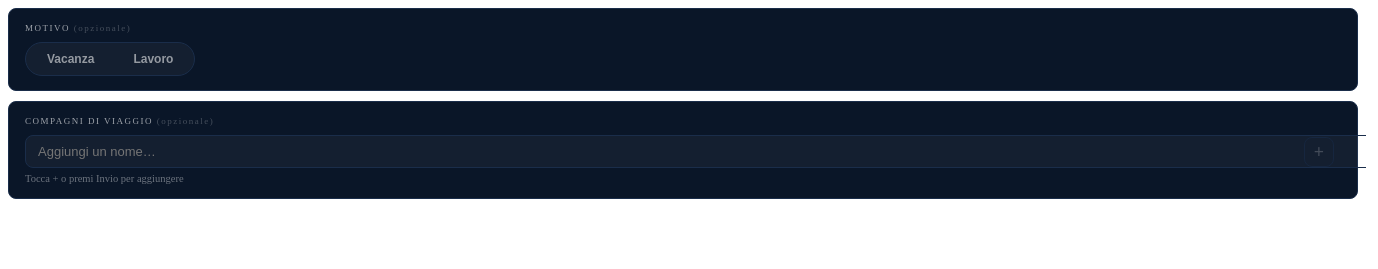
Scenario: TripPurposeCompanions — suggerimenti da tastiera › Invio senza evidenziazione aggiunge il testo digitato (comportamento storico)
Type "Marco" into the dropdown with placeholder "Aggiungi un nome…" at (696, 152), box [25,135,1366,168]
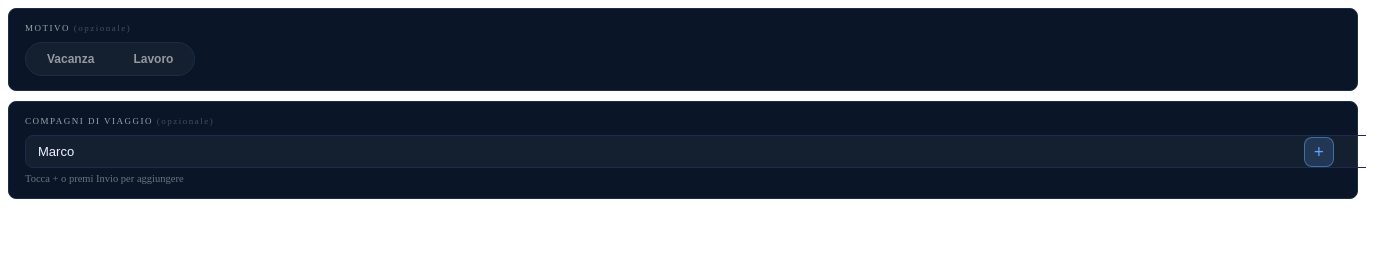
Press Enter in the dropdown with placeholder "Aggiungi un nome…", box [25,135,1366,168]
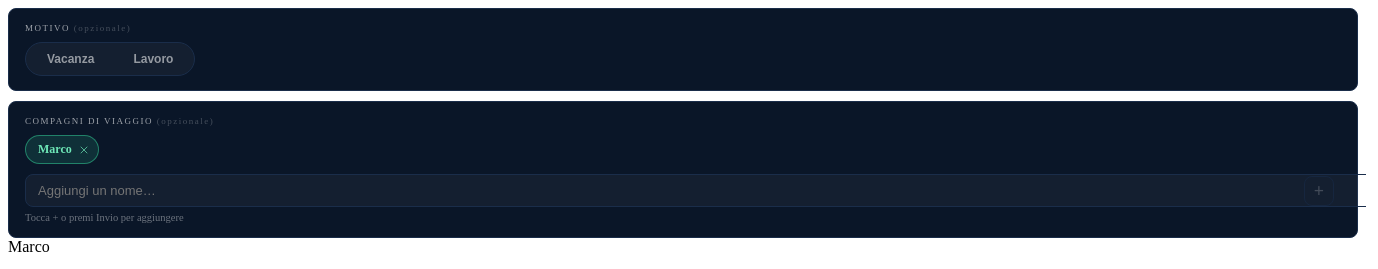
Check: the element showing "Marco" is shown, box [25,135,99,164]
